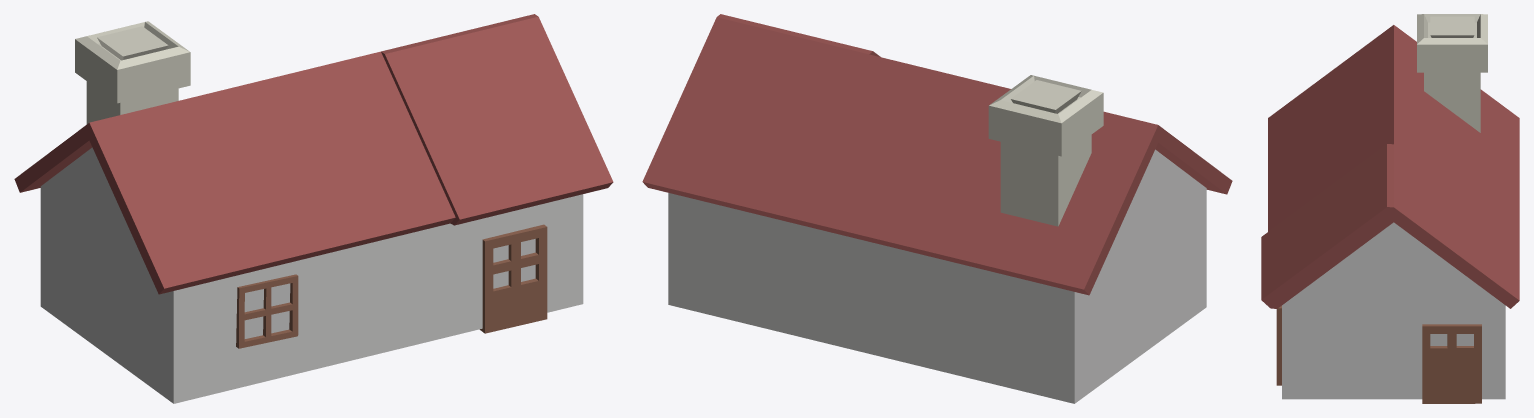
The model's file is house.fbx.
The picture shows the model from 3 angles, left to right: view 1: azimuth 30°, elevation 25°; view 2: azimuth 150°, elevation 25°; view 3: azimuth 270°, elevation 25°; orthographic projection. The views are drawn at different scales.
Parts seen in each view (by area): view 1: Deco; view 2: Deco; view 3: Deco.
Boxes of the visible parts, x1,y1,x2,y2 form: Deco: [14, 14, 613, 403]; Deco: [642, 14, 1232, 403]; Deco: [1261, 14, 1519, 403].
Size of the model in its own units: 7542 by 4481 by 4511.
